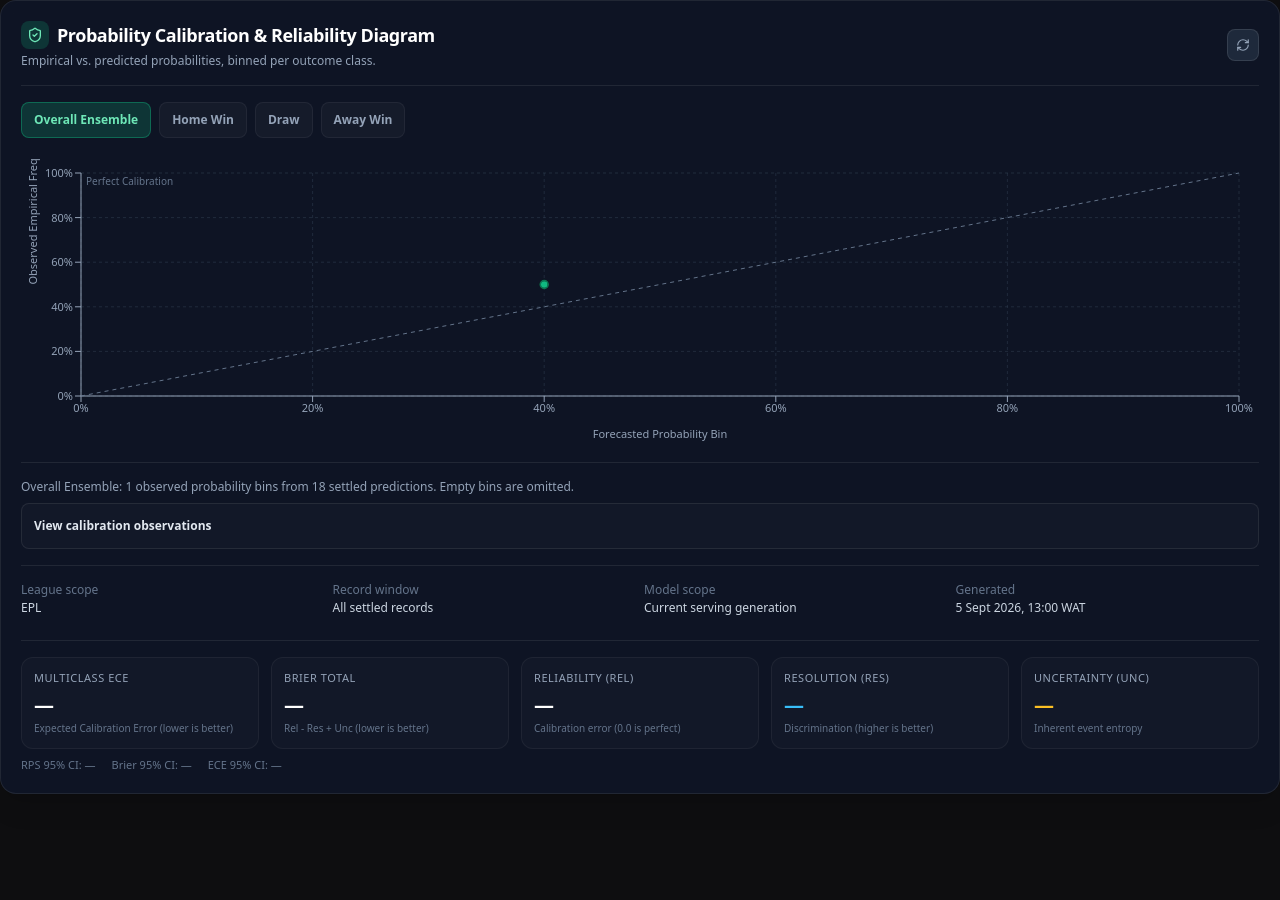
CalibrationCurveChart › provides a keyboard-readable table and honest calibration scope
The width and height of the screenshot is (1280, 900).
Check: the text "1 observed probability bins from 18 settled predictions" is shown, box [21,478,574,495]
Click the heading "View calibration observations".
click(123, 526)  # box [34,517,212,534]
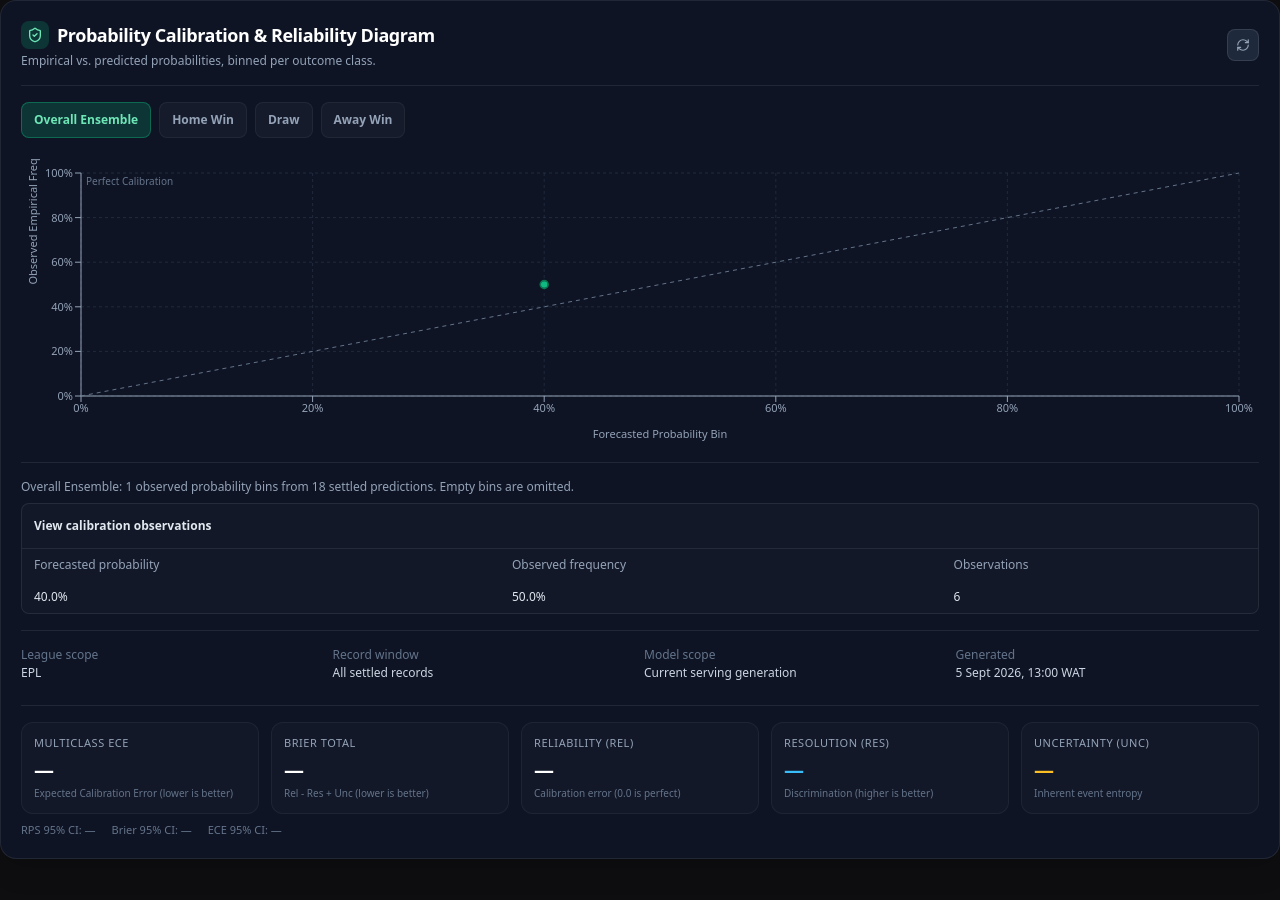
Check: the text "Current serving generation" is shown, box [644,664,797,681]
Check: the table named "calibration observations for overall ensemble" is shown, box [22,549,1258,613]
